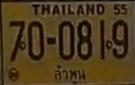0: (27, 20, 43, 59), (58, 20, 74, 59)
1: (99, 20, 105, 59)
7: (9, 20, 24, 61)
8: (76, 19, 91, 59)
9: (111, 19, 127, 58)
LPN: (52, 64, 87, 85)
